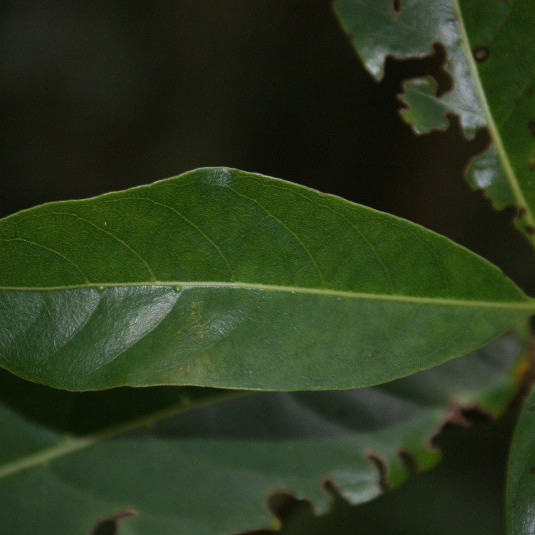obstacle: (23, 150, 524, 400)
